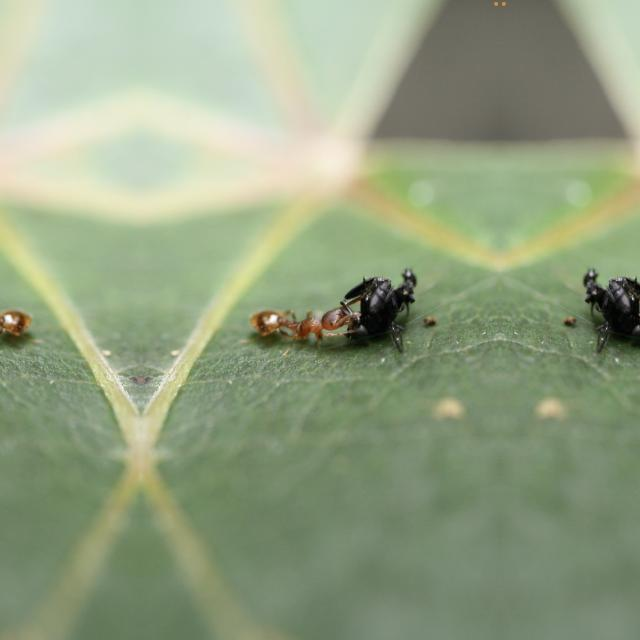Temnothorax: (258, 298, 344, 356), (0, 298, 22, 356)
